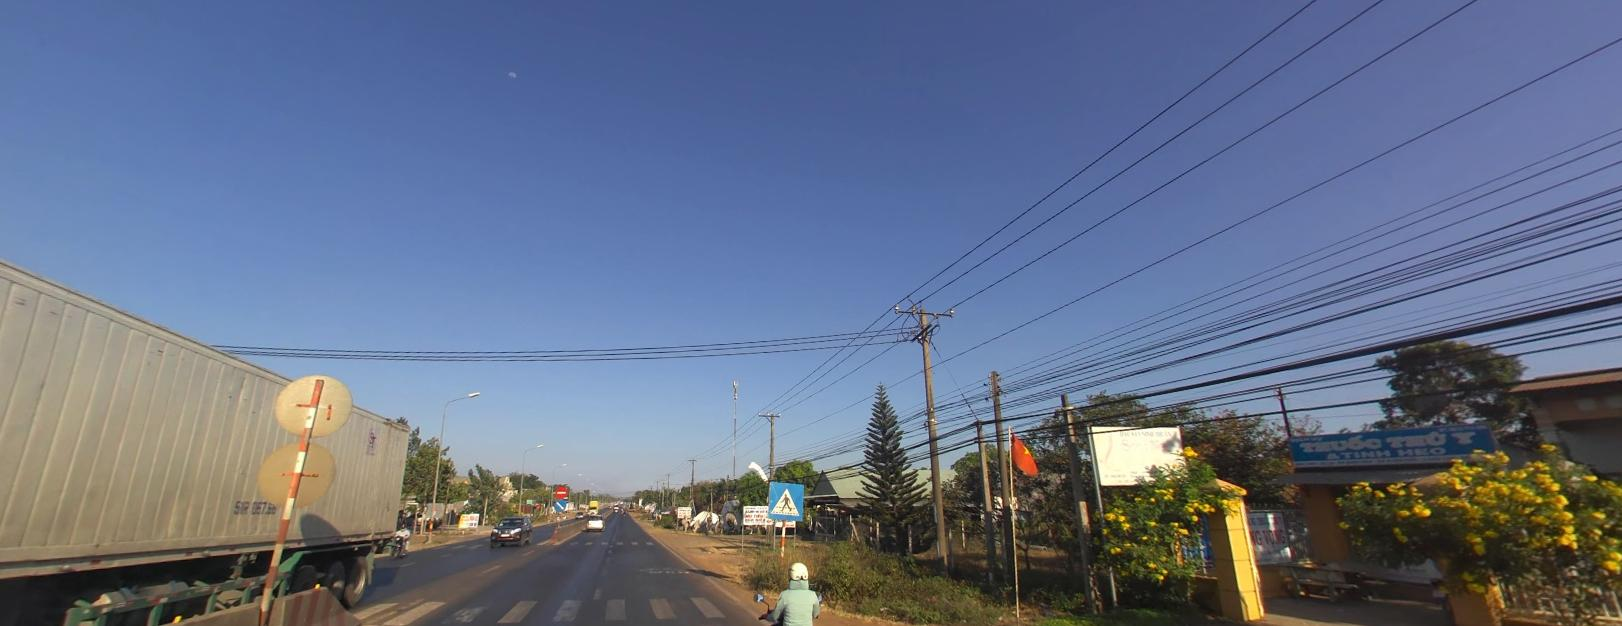Cam nguoc chieu: (554, 484, 568, 497)
Hieu lenh: (553, 498, 565, 510)
